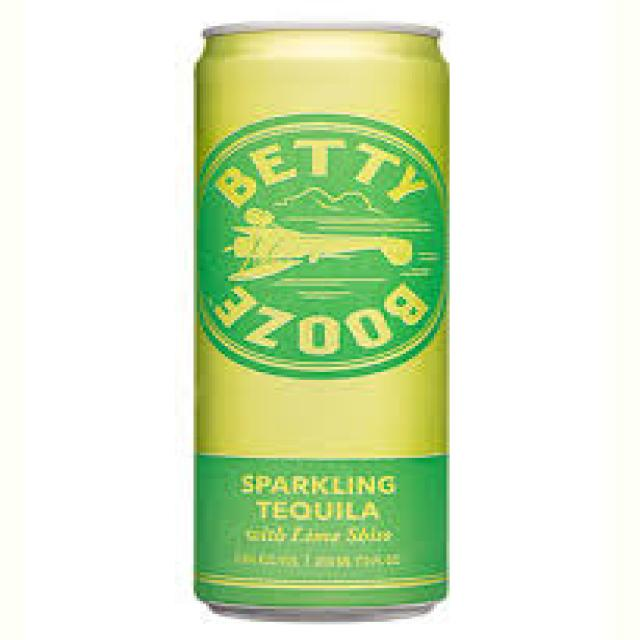Cans: (181, 13, 462, 622)
